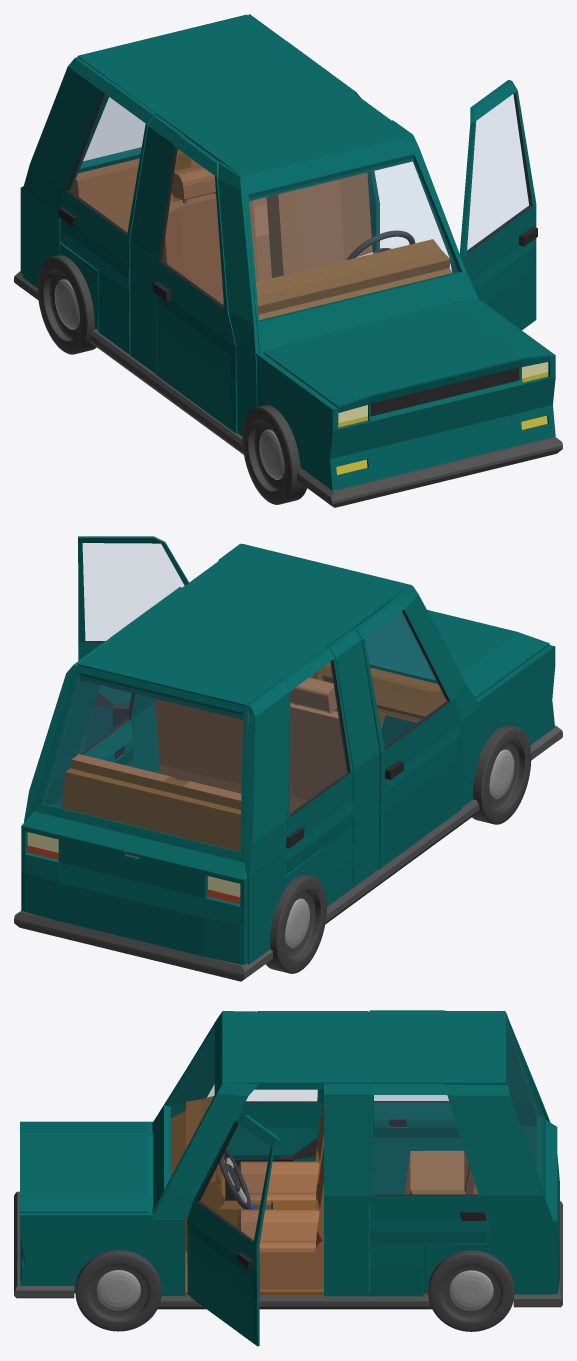
Rendered from fps_araba_kapili.glb.
3 renders of one model, top to bottom at view 1: azimuth 30°, elevation 25°; view 2: azimuth 150°, elevation 25°; view 3: azimuth 270°, elevation 25°, orthographic. The views are drawn at different scales.
Parts seen in each view (by area): view 1: Cube.016_12, Cube.001_6, Cube.019_15, Cube_1, Cube.029_29, Cube.015_11, Cube.028_28, Cube.005_2, Cube.031_31, Cube.011_8, Cube.013_10, Cube.003_3 (+13 smaller); view 2: Cube.016_12, Cube.020_16, Cube.022_18, Cube_1, Cube.001_6, Cube.029_29, Cube.015_11, Cube.031_31, Cube.034_38, Cube.013_10, Cube.021_17, Cube.005_2 (+15 smaller); view 3: Cube.016_12, Cube.001_6, Cube.012_9, Cube.030_30, Cube.007_5, Cube.028_28, Cube.006_33, Cube.011_8, Cube_1, Cube.031_31, Cube.005_2, Cylinder_20 (+16 smaller).
Part boxes in pixels (x1,y1,x2,y2): Cube.016_12: [77, 14, 474, 352]; Cube.001_6: [255, 298, 555, 490]; Cube.019_15: [249, 160, 457, 319]; Cube_1: [71, 149, 452, 319]; Cube.029_29: [153, 135, 237, 433]; Cube.015_11: [23, 57, 112, 287]; Cube.028_28: [459, 80, 537, 330]; Cube.005_2: [266, 172, 372, 278]; Cube.031_31: [58, 82, 156, 354]; Cube.011_8: [218, 120, 478, 436]; Cube.013_10: [130, 115, 183, 372]; Cube.003_3: [162, 165, 258, 304]; Cube.016_12: [78, 544, 437, 712]; Cube.020_16: [43, 676, 242, 851]; Cube.022_18: [21, 811, 247, 964]; Cube_1: [62, 662, 446, 851]; Cube.001_6: [365, 610, 555, 798]; Cube.029_29: [354, 601, 461, 868]; Cube.015_11: [245, 680, 288, 964]; Cube.031_31: [282, 648, 353, 906]; Cube.034_38: [83, 543, 183, 641]; Cube.013_10: [327, 628, 379, 887]; Cube.021_17: [33, 665, 247, 862]; Cube.005_2: [155, 698, 248, 793]; Cube.016_12: [152, 1011, 505, 1213]; Cube.001_6: [20, 1121, 166, 1293]; Cube.012_9: [445, 1084, 552, 1294]; Cube.030_30: [370, 1083, 489, 1296]; Cube.007_5: [324, 1083, 369, 1296]; Cube.028_28: [187, 1115, 280, 1346]; Cube.006_33: [373, 1095, 477, 1194]; Cube.011_8: [151, 1011, 258, 1295]; Cube_1: [171, 1096, 489, 1294]; Cube.031_31: [369, 1010, 464, 1201]; Cube.005_2: [236, 1145, 323, 1289]; Cylinder_20: [75, 1250, 161, 1331].
Size of the model in its own units: 12.55 by 9.31 by 19.73.
